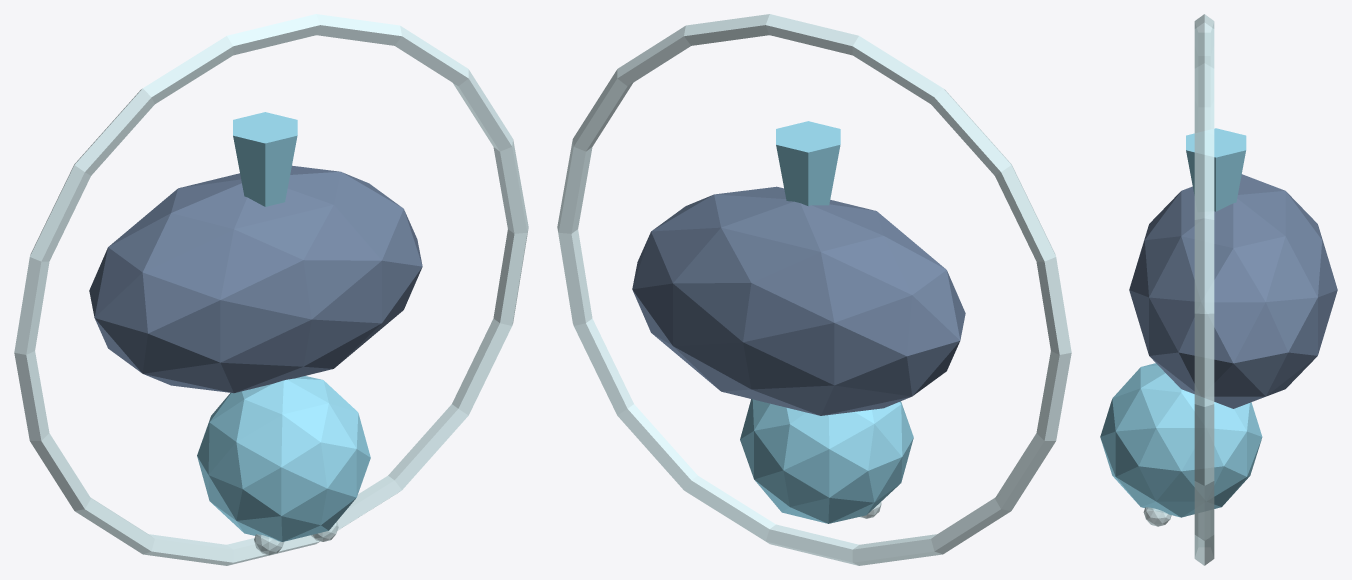
The model's file is 08_pet_companion_proc.glb.
3 renders of one model, left to right at view 1: azimuth 30°, elevation 25°; view 2: azimuth 150°, elevation 25°; view 3: azimuth 270°, elevation 25°, orthographic. The views are drawn at different scales.
Parts seen in each view (by area): view 1: pet_body, bonus_proc_ring, pet_head, tail_or_antenna; view 2: pet_body, bonus_proc_ring, pet_head, tail_or_antenna; view 3: pet_body, pet_head, bonus_proc_ring, tail_or_antenna, pet_eye_r.
Part boxes in pixels (box(x1,y1,x2,y2)): pet_body: box(89, 165, 422, 393); bonus_proc_ring: box(14, 14, 528, 565); pet_head: box(197, 376, 370, 541); tail_or_antenna: box(233, 112, 297, 206); pet_body: box(632, 186, 965, 415); bonus_proc_ring: box(557, 14, 1071, 565); pet_head: box(740, 399, 913, 523); tail_or_antenna: box(776, 121, 840, 206); pet_body: box(1129, 174, 1337, 408); pet_head: box(1100, 363, 1262, 517); bonus_proc_ring: box(1194, 14, 1214, 565); tail_or_antenna: box(1186, 128, 1246, 211); pet_eye_r: box(1143, 507, 1171, 526).
Bounding box in the file's own units: 0.956 × 0.9415 × 0.41.
